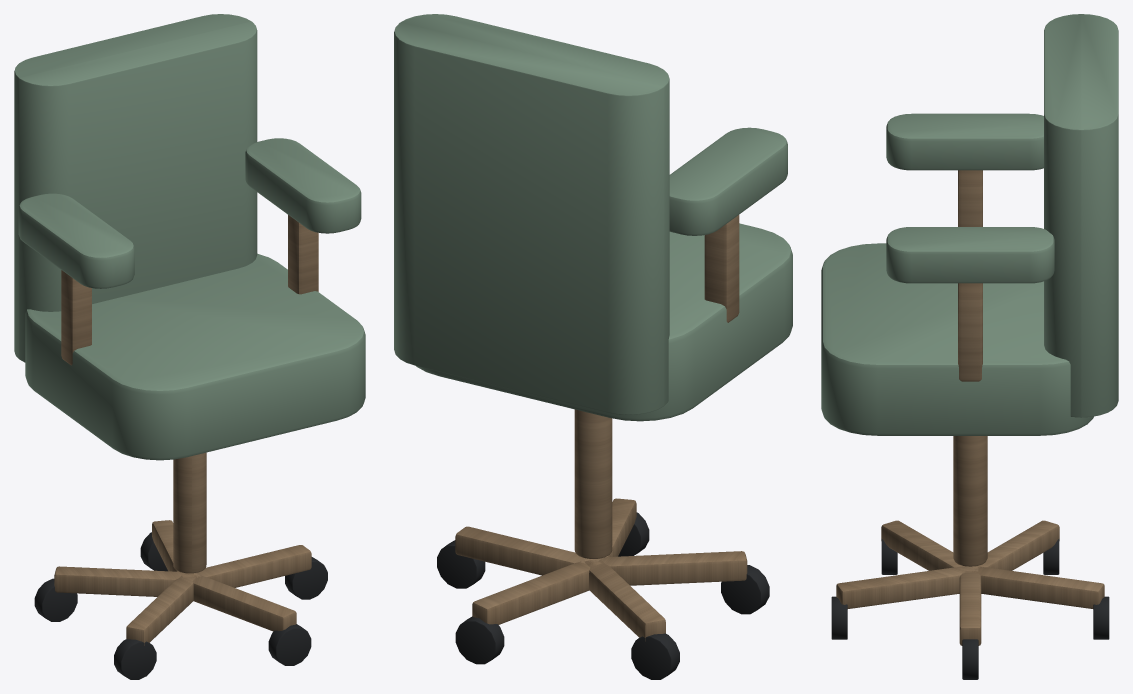
Rendered from office_chair_premium.glb.
3 renders of one model, left to right at view 1: azimuth 30°, elevation 25°; view 2: azimuth 150°, elevation 25°; view 3: azimuth 270°, elevation 25°, orthographic. The views are drawn at different scales.
Visible parts, largest first — view 1: OfficeChair_Back, OfficeChair_Seat, OfficeChair_ArmPad_1, OfficeChair_ArmPad_-1, OfficeChair_GasLift, OfficeChair_BaseArm_3, OfficeChair_BaseArm_5, OfficeChair_BaseArm_1, OfficeChair_ArmPost_-1, OfficeChair_BaseArm_4, OfficeChair_ArmPost_1, OfficeChair_Caster_4 (+5 smaller); view 2: OfficeChair_Back, OfficeChair_Seat, OfficeChair_ArmPad_-1, OfficeChair_GasLift, OfficeChair_BaseArm_4, OfficeChair_BaseArm_2, OfficeChair_BaseArm_1, OfficeChair_ArmPost_-1, OfficeChair_BaseArm_3, OfficeChair_Caster_3, OfficeChair_Caster_2, OfficeChair_Caster_4 (+3 smaller); view 3: OfficeChair_Seat, OfficeChair_Back, OfficeChair_ArmPad_1, OfficeChair_ArmPad_-1, OfficeChair_GasLift, OfficeChair_BaseArm_5, OfficeChair_BaseArm_2, OfficeChair_ArmPost_1, OfficeChair_BaseArm_4, OfficeChair_BaseArm_3, OfficeChair_BaseArm_1, OfficeChair_ArmPost_-1 (+5 smaller).
Part boxes in pixels (left/top/right/bottom): OfficeChair_Back: left=14, top=14, right=257, bottom=362; OfficeChair_Seat: left=25, top=253, right=365, bottom=460; OfficeChair_ArmPad_1: left=245, top=138, right=361, bottom=233; OfficeChair_ArmPad_-1: left=18, top=193, right=134, bottom=288; OfficeChair_GasLift: left=173, top=452, right=206, bottom=573; OfficeChair_BaseArm_3: left=54, top=566, right=193, bottom=596; OfficeChair_BaseArm_5: left=192, top=575, right=296, bottom=631; OfficeChair_BaseArm_1: left=183, top=545, right=311, bottom=587; OfficeChair_ArmPost_-1: left=61, top=270, right=91, bottom=365; OfficeChair_BaseArm_4: left=126, top=575, right=197, bottom=645; OfficeChair_ArmPost_1: left=288, top=215, right=318, bottom=294; OfficeChair_Caster_4: left=114, top=639, right=156, bottom=679; OfficeChair_Back: left=394, top=14, right=669, bottom=414; OfficeChair_Seat: left=416, top=223, right=792, bottom=421; OfficeChair_ArmPad_-1: left=669, top=127, right=787, bottom=235; OfficeChair_GasLift: left=574, top=409, right=612, bottom=558; OfficeChair_BaseArm_4: left=600, top=551, right=747, bottom=585; OfficeChair_BaseArm_2: left=472, top=559, right=601, bottom=624; OfficeChair_BaseArm_1: left=455, top=526, right=600, bottom=575; OfficeChair_ArmPost_-1: left=704, top=215, right=739, bottom=322; OfficeChair_BaseArm_3: left=584, top=559, right=665, bottom=641; OfficeChair_Caster_3: left=631, top=633, right=679, bottom=679; OfficeChair_Caster_2: left=455, top=616, right=504, bottom=664; OfficeChair_Caster_4: left=721, top=565, right=769, bottom=614; OfficeChair_Seat: left=821, top=243, right=1093, bottom=435; OfficeChair_Back: left=1044, top=14, right=1118, bottom=417; OfficeChair_ArmPad_1: left=886, top=227, right=1054, bottom=283; OfficeChair_ArmPad_-1: left=886, top=113, right=1043, bottom=170; OfficeChair_GasLift: left=953, top=436, right=987, bottom=566; OfficeChair_BaseArm_5: left=836, top=566, right=975, bottom=608; OfficeChair_BaseArm_2: left=965, top=566, right=1104, bottom=608; OfficeChair_ArmPost_1: left=958, top=283, right=982, bottom=381; OfficeChair_BaseArm_4: left=881, top=520, right=978, bottom=570; OfficeChair_BaseArm_3: left=963, top=520, right=1059, bottom=570; OfficeChair_BaseArm_1: left=959, top=568, right=981, bottom=645; OfficeChair_ArmPost_-1: left=958, top=170, right=982, bottom=226.
Size of what is drawn, in the model's own units: 0.5246 by 0.9656 by 0.4742.
3 materials, 1 textured.
